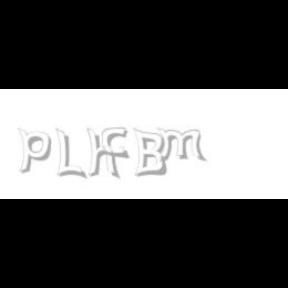B: (133, 128, 167, 178)
L: (56, 128, 84, 180)
c: (102, 128, 130, 160)
h: (86, 128, 122, 180)
m: (156, 128, 208, 162)
p: (18, 128, 55, 174)
